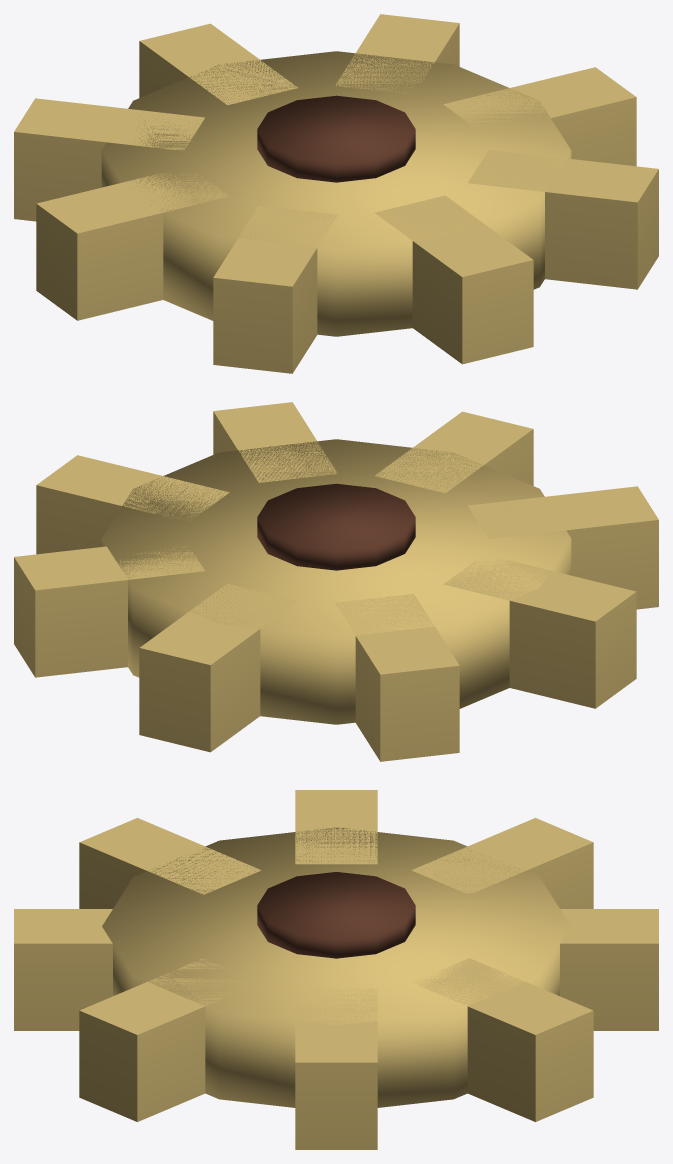
File: prop-or-gear-circle.glb
3 renders of one model, top to bottom at view 1: azimuth 30°, elevation 25°; view 2: azimuth 150°, elevation 25°; view 3: azimuth 270°, elevation 25°, orthographic.
Visible parts, largest first — view 1: prop-or-gear-circle; view 2: prop-or-gear-circle; view 3: prop-or-gear-circle.
Boxes of the visible parts, left/top/right/bottom form: prop-or-gear-circle: left=14, top=14, right=658, bottom=373; prop-or-gear-circle: left=14, top=402, right=658, bottom=761; prop-or-gear-circle: left=14, top=790, right=658, bottom=1149.
Bounding box in the file's own units: 0.27 × 0.05 × 0.27.
